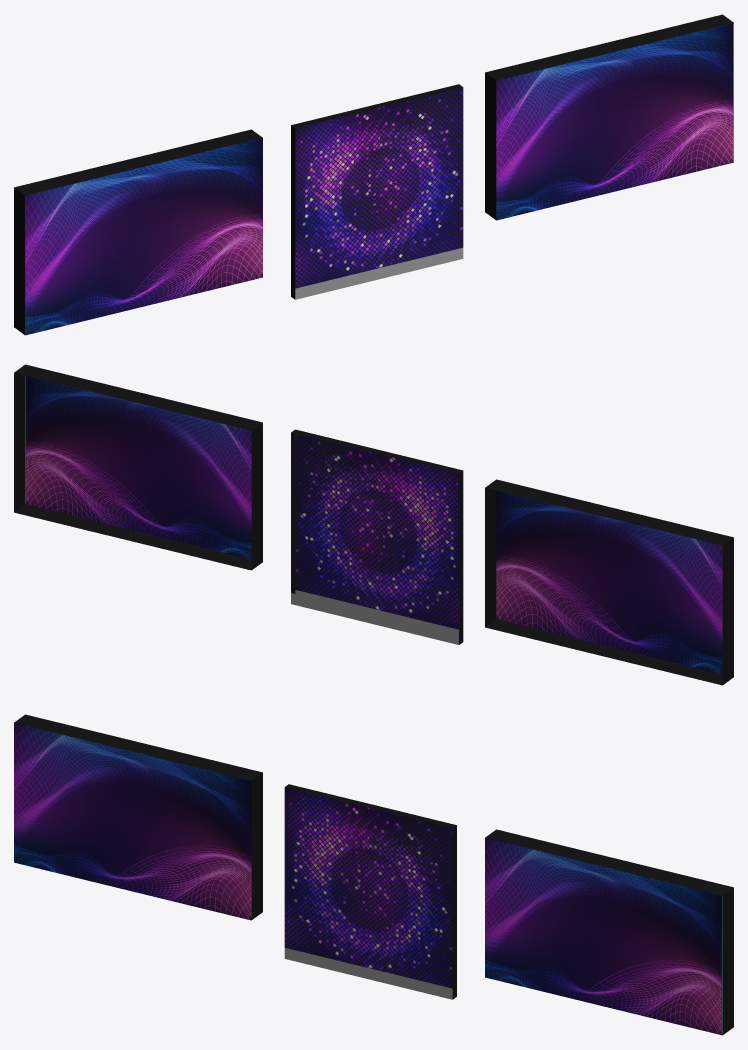
Rendered from stagevrs2_03.fbx.
3 views of the same model, one above another, from view 1: azimuth 30°, elevation 25°; view 2: azimuth 150°, elevation 25°; view 3: azimuth 330°, elevation 25° (orthographic).
Visible parts, largest first — view 1: screens1, polySurface4; view 2: screens1, polySurface4; view 3: screens1, polySurface4.
Part boxes in pixels (bbox=[...]): screens1: bbox=[25, 23, 733, 335]; polySurface4: bbox=[14, 14, 733, 334]; screens1: bbox=[25, 375, 722, 674]; polySurface4: bbox=[14, 364, 733, 685]; screens1: bbox=[14, 723, 722, 1035]; polySurface4: bbox=[14, 714, 733, 1034].
Bounding box in the file's own units: 89.15 × 20.62 × 2.47.
3 materials, 1 textured.
